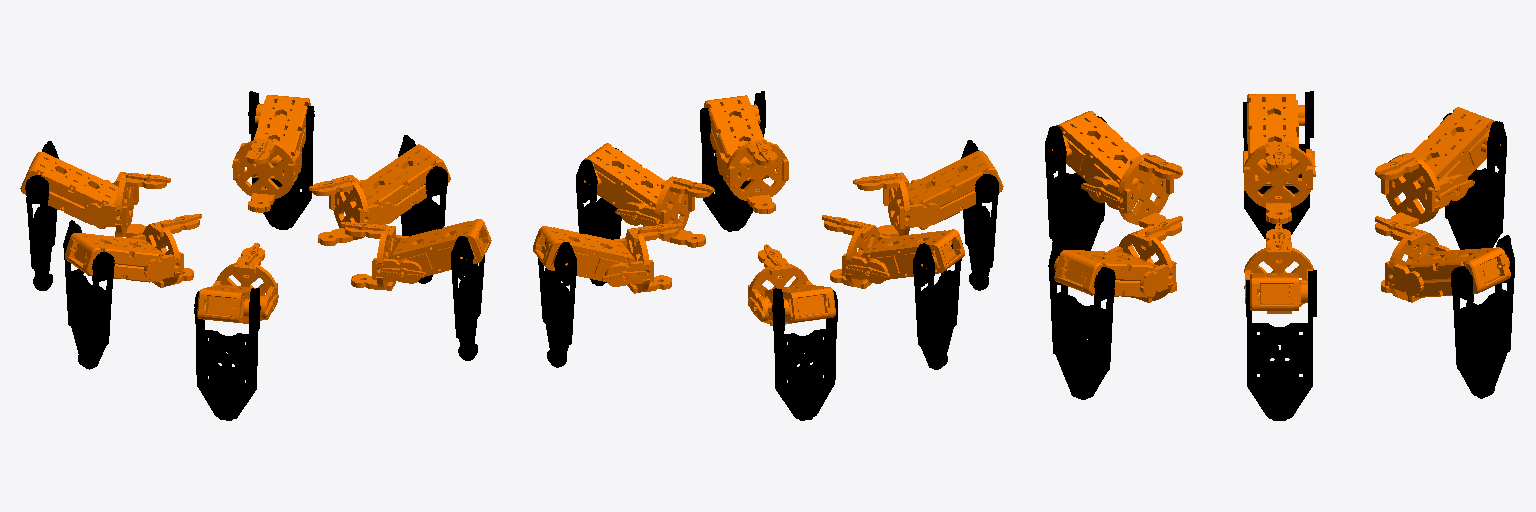
The robot description file, URDF, robot "body_z-up":
<?xml version="1.0" encoding="utf-8"?>
<!-- This URDF was automatically created by SolidWorks to URDF Exporter! Originally created by Stephen Brawner (brawner@gmail.com) 
     Commit Version: 1.6.0-4-g7f85cfe  Build Version: 1.6.7995.38578
     For more information, please see http://wiki.ros.org/sw_urdf_exporter -->
<robot
  name="body_z-up">
  <link
    name="base_link">
    <inertial>
      <origin
        xyz="0.0668 0.081638 0.017827"
        rpy="0 0 0" />
      <mass
        value="0.13141" />
      <inertia
        ixx="0.00011921"
        ixy="2.0298E-09"
        ixz="1.4027E-11"
        iyy="5.3713E-05"
        iyz="-2.2449E-07"
        izz="0.00016762" />
    </inertial>
    <visual>
      <origin
        xyz="0 0 0"
        rpy="0 0 0" />
      <geometry>
        <mesh
          filename="package://robot_description/meshes/base_link.STL" />
      </geometry>
      <material
        name="">
        <color
          rgba="0.25098 0.25098 0.25098 1" />
      </material>
    </visual>
    <collision>
      <origin
        xyz="0 0 0"
        rpy="0 0 0" />
      <geometry>
        <mesh
          filename="package://robot_description/meshes/base_link.STL" />
      </geometry>
    </collision>
  </link>
  <link
    name="cdk">
    <inertial>
      <origin
        xyz="0.010586 0.011321 -0.021091"
        rpy="0 0 0" />
      <mass
        value="0.0096676" />
      <inertia
        ixx="9.984E-07"
        ixy="4.4002E-08"
        ixz="-9.9419E-10"
        iyy="1.0049E-06"
        iyz="-1.0598E-09"
        izz="9.5797E-07" />
    </inertial>
    <visual>
      <origin
        xyz="0 0 0"
        rpy="0 0 0" />
      <geometry>
        <mesh
          filename="package://robot_description/meshes/cdk.STL" />
      </geometry>
      <material
        name="">
        <color
          rgba="1 0.5 0 1" />
      </material>
    </visual>
    <collision>
      <origin
        xyz="0 0 0"
        rpy="0 0 0" />
      <geometry>
        <mesh
          filename="package://robot_description/meshes/cdk.STL" />
      </geometry>
    </collision>
  </link>
  <joint
    name="cdk_joint"
    type="revolute">
    <origin
      xyz="0.10945 0.012591 0.03934"
      rpy="0 0 -1.5658" />
    <parent
      link="base_link" />
    <child
      link="cdk" />
    <axis
      xyz="0 0 1" />
    <limit
      lower="-1.57"
      upper="1.57"
      effort="1"
      velocity="2" />
  </joint>
  <link
    name="fdk">
    <inertial>
      <origin
        xyz="0.019622 -0.00753 0.023344"
        rpy="0 0 0" />
      <mass
        value="0.022781" />
      <inertia
        ixx="1.4347E-06"
        ixy="1.6445E-06"
        ixz="4.338E-13"
        iyy="5.1846E-06"
        iyz="-1.1036E-13"
        izz="5.8654E-06" />
    </inertial>
    <visual>
      <origin
        xyz="0 0 0"
        rpy="0 0 0" />
      <geometry>
        <mesh
          filename="package://robot_description/meshes/fdk.STL" />
      </geometry>
      <material
        name="">
        <color
          rgba="1 0.5 0 1" />
      </material>
    </visual>
    <collision>
      <origin
        xyz="0 0 0"
        rpy="0 0 0" />
      <geometry>
        <mesh
          filename="package://robot_description/meshes/fdk.STL" />
      </geometry>
    </collision>
  </link>
  <joint
    name="fdk_joint"
    type="revolute">
    <origin
      xyz="0.037781 0.0084286 -0.021466"
      rpy="-1.5708 0 0.81491" />
    <parent
      link="cdk" />
    <child
      link="fdk" />
    <axis
      xyz="0 0 -1" />
    <limit
      lower="-1.57"
      upper="1.57"
      effort="1"
      velocity="2" />
  </joint>
  <link
    name="tdk">
    <inertial>
      <origin
        xyz="-7.8386E-05 0.0429 0.0244"
        rpy="0 0 0" />
      <mass
        value="0.010382" />
      <inertia
        ixx="3.5254E-06"
        ixy="-1.007E-09"
        ixz="-2.6698E-11"
        iyy="9.1297E-07"
        iyz="4.9746E-09"
        izz="2.7173E-06" />
    </inertial>
    <visual>
      <origin
        xyz="0 0 0"
        rpy="0 0 0" />
      <geometry>
        <mesh
          filename="package://robot_description/meshes/tdk.STL" />
      </geometry>
      <material
        name="">
        <color
          rgba="0 0 0 1" />
      </material>
    </visual>
    <collision>
      <origin
        xyz="0 0 0"
        rpy="0 0 0" />
      <geometry>
        <mesh
          filename="package://robot_description/meshes/tdk.STL" />
      </geometry>
    </collision>
  </link>
  <joint
    name="tdk_joint"
    type="revolute">
    <origin
      xyz="0.039845 -0.01507 0"
      rpy="0 0 0" />
    <parent
      link="fdk" />
    <child
      link="tdk" />
    <axis
      xyz="0 0 -1" />
    <limit
      lower="-1.57"
      upper="1.57"
      effort="1"
      velocity="2" />
  </joint>
  <link
    name="ctk">
    <inertial>
      <origin
        xyz="6.2555E-05 0.015499 -0.021121"
        rpy="0 0 0" />
      <mass
        value="0.0096676" />
      <inertia
        ixx="9.5756E-07"
        ixy="1.2127E-10"
        ixz="-1.4583E-14"
        iyy="1.0457E-06"
        iyz="7.9151E-11"
        izz="9.58E-07" />
    </inertial>
    <visual>
      <origin
        xyz="0 0 0"
        rpy="0 0 0" />
      <geometry>
        <mesh
          filename="package://robot_description/meshes/ctk.STL" />
      </geometry>
      <material
        name="">
        <color
          rgba="1 0.5 0 1" />
      </material>
    </visual>
    <collision>
      <origin
        xyz="0 0 0"
        rpy="0 0 0" />
      <geometry>
        <mesh
          filename="package://robot_description/meshes/ctk.STL" />
      </geometry>
    </collision>
  </link>
  <joint
    name="ctk_joint"
    type="revolute">
    <origin
      xyz="0.1236 0.081448 0.03934"
      rpy="0 0 -1.5658" />
    <parent
      link="base_link" />
    <child
      link="ctk" />
    <axis
      xyz="0 0 1" />
    <limit
      lower="-1.57"
      upper="1.57"
      effort="1"
      velocity="2" />
  </joint>
  <link
    name="ftk">
    <inertial>
      <origin
        xyz="0.019583 -0.0079205 -0.023247"
        rpy="0 0 0" />
      <mass
        value="0.022781" />
      <inertia
        ixx="1.5387E-06"
        ixy="1.7554E-06"
        ixz="-2.1468E-08"
        iyy="5.0807E-06"
        iyz="8.7104E-09"
        izz="5.8653E-06" />
    </inertial>
    <visual>
      <origin
        xyz="0 0 0"
        rpy="0 0 0" />
      <geometry>
        <mesh
          filename="package://robot_description/meshes/ftk.STL" />
      </geometry>
      <material
        name="">
        <color
          rgba="1 0.5 0 1" />
      </material>
    </visual>
    <collision>
      <origin
        xyz="0 0 0"
        rpy="0 0 0" />
      <geometry>
        <mesh
          filename="package://robot_description/meshes/ftk.STL" />
      </geometry>
    </collision>
  </link>
  <joint
    name="ftk_joint"
    type="revolute">
    <origin
      xyz="-0.021711 0.031943 -0.021572"
      rpy="-1.5708 0 1.5658" />
    <parent
      link="ctk" />
    <child
      link="ftk" />
    <axis
      xyz="-0.0049617 0 0.99999" />
    <limit
      lower="-1.57"
      upper="1.57"
      effort="1"
      velocity="2" />
  </joint>
  <link
    name="ttk">
    <inertial>
      <origin
        xyz="0.00014958 0.043171 -0.024404"
        rpy="0 0 0" />
      <mass
        value="0.010382" />
      <inertia
        ixx="3.5254E-06"
        ixy="-9.6502E-10"
        ixz="3.983E-09"
        iyy="9.1297E-07"
        iyz="-4.8759E-09"
        izz="2.7173E-06" />
    </inertial>
    <visual>
      <origin
        xyz="0 0 0"
        rpy="0 0 0" />
      <geometry>
        <mesh
          filename="package://robot_description/meshes/ttk.STL" />
      </geometry>
      <material
        name="">
        <color
          rgba="0 0 0 1" />
      </material>
    </visual>
    <collision>
      <origin
        xyz="0 0 0"
        rpy="0 0 0" />
      <geometry>
        <mesh
          filename="package://robot_description/meshes/ttk.STL" />
      </geometry>
    </collision>
  </link>
  <joint
    name="ttk_joint"
    type="revolute">
    <origin
      xyz="0.039381 -0.016245 0.00019539"
      rpy="0 0 0" />
    <parent
      link="ftk" />
    <child
      link="ttk" />
    <axis
      xyz="-0.0049617 0 0.99999" />
    <limit
      lower="-1.57"
      upper="1.57"
      effort="1"
      velocity="2" />
  </joint>
  <link
    name="cbk">
    <inertial>
      <origin
        xyz="-0.011402 0.010498 -0.021121"
        rpy="0 0 0" />
      <mass
        value="0.0096676" />
      <inertia
        ixx="1.0061E-06"
        ixy="-4.3875E-08"
        ixz="-5.844E-11"
        iyy="9.9718E-07"
        iyz="5.3354E-11"
        izz="9.58E-07" />
    </inertial>
    <visual>
      <origin
        xyz="0 0 0"
        rpy="0 0 0" />
      <geometry>
        <mesh
          filename="package://robot_description/meshes/cbk.STL" />
      </geometry>
      <material
        name="">
        <color
          rgba="1 0.5 0 1" />
      </material>
    </visual>
    <collision>
      <origin
        xyz="0 0 0"
        rpy="0 0 0" />
      <geometry>
        <mesh
          filename="package://robot_description/meshes/cbk.STL" />
      </geometry>
    </collision>
  </link>
  <joint
    name="cbk_joint"
    type="revolute">
    <origin
      xyz="0.10945 0.1503 0.03934"
      rpy="0 0 -1.5658" />
    <parent
      link="base_link" />
    <child
      link="cbk" />
    <axis
      xyz="0 0 1" />
    <limit
      lower="-1.57"
      upper="1.57"
      effort="1"
      velocity="2" />
  </joint>
  <link
    name="fbk">
    <inertial>
      <origin
        xyz="0.019702 -0.0073173 -0.023344"
        rpy="0 0 0" />
      <mass
        value="0.022781" />
      <inertia
        ixx="1.4024E-06"
        ixy="1.6072E-06"
        ixz="1.7504E-13"
        iyy="5.2169E-06"
        iyz="-1.1949E-13"
        izz="5.8654E-06" />
    </inertial>
    <visual>
      <origin
        xyz="0 0 0"
        rpy="0 0 0" />
      <geometry>
        <mesh
          filename="package://robot_description/meshes/fbk.STL" />
      </geometry>
      <material
        name="">
        <color
          rgba="1 0.5 0 1" />
      </material>
    </visual>
    <collision>
      <origin
        xyz="0 0 0"
        rpy="0 0 0" />
      <geometry>
        <mesh
          filename="package://robot_description/meshes/fbk.STL" />
      </geometry>
    </collision>
  </link>
  <joint
    name="fbk_joint"
    type="revolute">
    <origin
      xyz="-0.038308 0.0055839 -0.021851"
      rpy="-1.5708 0 2.4015" />
    <parent
      link="cbk" />
    <child
      link="fbk" />
    <axis
      xyz="0 0 1" />
    <limit
      lower="-1.57"
      upper="1.57"
      effort="1"
      velocity="2" />
  </joint>
  <link
    name="tbk">
    <inertial>
      <origin
        xyz="-7.7052E-05 0.0429 -0.024405"
        rpy="0 0 0" />
      <mass
        value="0.010382" />
      <inertia
        ixx="3.5254E-06"
        ixy="-9.9081E-10"
        ixz="-2.6697E-11"
        iyy="9.1297E-07"
        iyz="-4.871E-09"
        izz="2.7173E-06" />
    </inertial>
    <visual>
      <origin
        xyz="0 0 0"
        rpy="0 0 0" />
      <geometry>
        <mesh
          filename="package://robot_description/meshes/tbk.STL" />
      </geometry>
      <material
        name="">
        <color
          rgba="0 0 0 1" />
      </material>
    </visual>
    <collision>
      <origin
        xyz="0 0 0"
        rpy="0 0 0" />
      <geometry>
        <mesh
          filename="package://robot_description/meshes/tbk.STL" />
      </geometry>
    </collision>
  </link>
  <joint
    name="tbk_joint"
    type="revolute">
    <origin
      xyz="0.0400060839143754 -0.0146380747215667 0"
      rpy="0 0 0" />
    <parent
      link="fbk" />
    <child
      link="tbk" />
    <axis
      xyz="0 0 1" />
    <limit
      lower="-1.57"
      upper="1.57"
      effort="1"
      velocity="2" />
  </joint>
  <link
    name="cdr">
    <inertial>
      <origin
        xyz="0.011179 -0.010735 -0.021121"
        rpy="0 0 0" />
      <mass
        value="0.0096676" />
      <inertia
        ixx="1.0037E-06"
        ixy="-4.4032E-08"
        ixz="5.7304E-11"
        iyy="9.9958E-07"
        iyz="-5.4566E-11"
        izz="9.58E-07" />
    </inertial>
    <visual>
      <origin
        xyz="0 0 0"
        rpy="0 0 0" />
      <geometry>
        <mesh
          filename="package://robot_description/meshes/cdr.STL" />
      </geometry>
      <material
        name="">
        <color
          rgba="1 0.5 0 1" />
      </material>
    </visual>
    <collision>
      <origin
        xyz="0 0 0"
        rpy="0 0 0" />
      <geometry>
        <mesh
          filename="package://robot_description/meshes/cdr.STL" />
      </geometry>
    </collision>
  </link>
  <joint
    name="cdr_joint"
    type="revolute">
    <origin
      xyz="0.024148 0.012591 0.03934"
      rpy="0 0 -1.5708" />
    <parent
      link="base_link" />
    <child
      link="cdr" />
    <axis
      xyz="0 0 1" />
    <limit
      lower="-1.57"
      upper="1.57"
      effort="1"
      velocity="2" />
  </joint>
  <link
    name="fdr">
    <inertial>
      <origin
        xyz="0.019544 0.0077314 0.023344"
        rpy="0 0 0" />
      <mass
        value="0.022781" />
      <inertia
        ixx="1.4719E-06"
        ixy="-1.6859E-06"
        ixz="2.0453E-14"
        iyy="5.1474E-06"
        iyz="-6.3369E-14"
        izz="5.8654E-06" />
    </inertial>
    <visual>
      <origin
        xyz="0 0 0"
        rpy="0 0 0" />
      <geometry>
        <mesh
          filename="package://robot_description/meshes/fdr.STL" />
      </geometry>
      <material
        name="">
        <color
          rgba="1 0.5 0 1" />
      </material>
    </visual>
    <collision>
      <origin
        xyz="0 0 0"
        rpy="0 0 0" />
      <geometry>
        <mesh
          filename="package://robot_description/meshes/fdr.STL" />
      </geometry>
    </collision>
  </link>
  <joint
    name="fdr_joint"
    type="revolute">
    <origin
      xyz="0.038184 -0.0063887 -0.02185"
      rpy="1.5708 0 -0.76111" />
    <parent
      link="cdr" />
    <child
      link="fdr" />
    <axis
      xyz="0 0 -1" />
    <limit
      lower="-1.57"
      upper="1.57"
      effort="1"
      velocity="2" />
  </joint>
  <link
    name="tdr">
    <inertial>
      <origin
        xyz="-7.9929E-05 -0.042901 0.024405"
        rpy="0 0 0" />
      <mass
        value="0.010382" />
      <inertia
        ixx="3.5254E-06"
        ixy="9.9067E-10"
        ixz="2.669E-11"
        iyy="9.1297E-07"
        iyz="-4.871E-09"
        izz="2.7173E-06" />
    </inertial>
    <visual>
      <origin
        xyz="0 0 0"
        rpy="0 0 0" />
      <geometry>
        <mesh
          filename="package://robot_description/meshes/tdr.STL" />
      </geometry>
      <material
        name="">
        <color
          rgba="0 0 0 1" />
      </material>
    </visual>
    <collision>
      <origin
        xyz="0 0 0"
        rpy="0 0 0" />
      <geometry>
        <mesh
          filename="package://robot_description/meshes/tdr.STL" />
      </geometry>
    </collision>
  </link>
  <joint
    name="tdr_joint"
    type="revolute">
    <origin
      xyz="0.039688 0.015479 0"
      rpy="0 0 0" />
    <parent
      link="fdr" />
    <child
      link="tdr" />
    <axis
      xyz="0 0 -1" />
    <limit
      lower="-1.57"
      upper="1.57"
      effort="1"
      velocity="2" />
  </joint>
  <link
    name="ctr">
    <inertial>
      <origin
        xyz="6.254E-05 -0.015499 -0.021091"
        rpy="0 0 0" />
      <mass
        value="0.0096676" />
      <inertia
        ixx="9.5755E-07"
        ixy="-4.1169E-10"
        ixz="-3.5032E-12"
        iyy="1.0458E-06"
        iyz="1.4531E-09"
        izz="9.5797E-07" />
    </inertial>
    <visual>
      <origin
        xyz="0 0 0"
        rpy="0 0 0" />
      <geometry>
        <mesh
          filename="package://robot_description/meshes/ctr.STL" />
      </geometry>
      <material
        name="">
        <color
          rgba="1 0.5 0 1" />
      </material>
    </visual>
    <collision>
      <origin
        xyz="0 0 0"
        rpy="0 0 0" />
      <geometry>
        <mesh
          filename="package://robot_description/meshes/ctr.STL" />
      </geometry>
    </collision>
  </link>
  <joint
    name="ctr_joint"
    type="revolute">
    <origin
      xyz="0.0100000061122792 0.0814476249955768 0.0393400002384186"
      rpy="0 0 -1.55132271596475" />
    <parent
      link="base_link" />
    <child
      link="ctr" />
    <axis
      xyz="0 0 1" />
    <limit
      lower="-1.57"
      upper="1.57"
      effort="1"
      velocity="2" />
  </joint>
  <link
    name="ftr">
    <inertial>
      <origin
        xyz="0.019453 0.006727 -0.023728"
        rpy="0 0 0" />
      <mass
        value="0.022781" />
      <inertia
        ixx="1.3383E-06"
        ixy="-1.5256E-06"
        ixz="8.8177E-08"
        iyy="5.2828E-06"
        iyz="2.9716E-08"
        izz="5.8637E-06" />
    </inertial>
    <visual>
      <origin
        xyz="0 0 0"
        rpy="0 0 0" />
      <geometry>
        <mesh
          filename="package://robot_description/meshes/ftr.STL" />
      </geometry>
      <material
        name="">
        <color
          rgba="1 0.5 0 1" />
      </material>
    </visual>
    <collision>
      <origin
        xyz="0 0 0"
        rpy="0 0 0" />
      <geometry>
        <mesh
          filename="package://robot_description/meshes/ftr.STL" />
      </geometry>
    </collision>
  </link>
  <joint
    name="ftr_joint"
    type="revolute">
    <origin
      xyz="-0.0217105423481277 -0.0319467536057447 -0.0211842510913956"
      rpy="1.57079630717727 0 -1.59026993762504" />
    <parent
      link="ctr" />
    <child
      link="ftr" />
    <axis
      xyz="0.0194736704471767 0 0.999810370099907" />
    <limit
      lower="-1.57"
      upper="1.57"
      effort="1"
      velocity="2" />
  </joint>
  <link
    name="ttr">
    <inertial>
      <origin
        xyz="-0.00045476 -0.043174 -0.024396"
        rpy="0 0 0" />
      <mass
        value="0.010382" />
      <inertia
        ixx="3.5251E-06"
        ixy="1.1036E-09"
        ixz="-1.5708E-08"
        iyy="9.1297E-07"
        iyz="4.9539E-09"
        izz="2.7176E-06" />
    </inertial>
    <visual>
      <origin
        xyz="0 0 0"
        rpy="0 0 0" />
      <geometry>
        <mesh
          filename="package://robot_description/meshes/ttr.STL" />
      </geometry>
      <material
        name="">
        <color
          rgba="0 0 0 1" />
      </material>
    </visual>
    <collision>
      <origin
        xyz="0 0 0"
        rpy="0 0 0" />
      <geometry>
        <mesh
          filename="package://robot_description/meshes/ttr.STL" />
      </geometry>
    </collision>
  </link>
  <joint
    name="ttr_joint"
    type="revolute">
    <origin
      xyz="0.0402848517303517 0.0138302219579476 -0.000784642195971547"
      rpy="0 0 0" />
    <parent
      link="ftr" />
    <child
      link="ttr" />
    <axis
      xyz="0.0194736704471687 0 0.999810370099907" />
    <limit
      lower="-1.57"
      upper="1.57"
      effort="1"
      velocity="2" />
  </joint>
  <link
    name="cbr">
    <inertial>
      <origin
        xyz="-0.010274 -0.011605 -0.021091"
        rpy="0 0 0" />
      <mass
        value="0.0096676" />
      <inertia
        ixx="9.9564E-07"
        ixy="4.3751E-08"
        ixz="9.6499E-10"
        iyy="1.0077E-06"
        iyz="1.0864E-09"
        izz="9.5797E-07" />
    </inertial>
    <visual>
      <origin
        xyz="0 0 0"
        rpy="0 0 0" />
      <geometry>
        <mesh
          filename="package://robot_description/meshes/cbr.STL" />
      </geometry>
      <material
        name="">
        <color
          rgba="1 0.5 0 1" />
      </material>
    </visual>
    <collision>
      <origin
        xyz="0 0 0"
        rpy="0 0 0" />
      <geometry>
        <mesh
          filename="package://robot_description/meshes/cbr.STL" />
      </geometry>
    </collision>
  </link>
  <joint
    name="cbr_joint"
    type="revolute">
    <origin
      xyz="0.0241479960646266 0.150303899569065 0.0393400002384201"
      rpy="0 0 -1.57079629037889" />
    <parent
      link="base_link" />
    <child
      link="cbr" />
    <axis
      xyz="0 0 1" />
    <limit
      lower="-1.57"
      upper="1.57"
      effort="1"
      velocity="2" />
  </joint>
  <link
    name="fbr">
    <inertial>
      <origin
        xyz="0.019464 0.0079297 -0.023344"
        rpy="0 0 0" />
      <mass
        value="0.022781" />
      <inertia
        ixx="1.5035E-06"
        ixy="-1.7194E-06"
        ixz="-1.8201E-15"
        iyy="5.1158E-06"
        iyz="-1.6263E-13"
        izz="5.8654E-06" />
    </inertial>
    <visual>
      <origin
        xyz="0 0 0"
        rpy="0 0 0" />
      <geometry>
        <mesh
          filename="package://robot_description/meshes/fbr.STL" />
      </geometry>
      <material
        name="">
        <color
          rgba="1 0.5 0 1" />
      </material>
    </visual>
    <collision>
      <origin
        xyz="0 0 0"
        rpy="0 0 0" />
      <geometry>
        <mesh
          filename="package://robot_description/meshes/fbr.STL" />
      </geometry>
    </collision>
  </link>
  <joint
    name="fbr_joint"
    type="revolute">
    <origin
      xyz="-0.03754 -0.0094556 -0.021465"
      rpy="1.5708 0 -2.2995" />
    <parent
      link="cbr" />
    <child
      link="fbr" />
    <axis
      xyz="0 0 1" />
    <limit
      lower="-1.57"
      upper="1.57"
      effort="1"
      velocity="2" />
  </joint>
  <link
    name="tbr">
    <inertial>
      <origin
        xyz="-8.1163E-05 -0.042901 -0.0244"
        rpy="0 0 0" />
      <mass
        value="0.010382" />
      <inertia
        ixx="3.5254E-06"
        ixy="1.0069E-09"
        ixz="2.6696E-11"
        iyy="9.1297E-07"
        iyz="4.9746E-09"
        izz="2.7173E-06" />
    </inertial>
    <visual>
      <origin
        xyz="0 0 0"
        rpy="0 0 0" />
      <geometry>
        <mesh
          filename="package://robot_description/meshes/tbr.STL" />
      </geometry>
      <material
        name="">
        <color
          rgba="0 0 0 1" />
      </material>
    </visual>
    <collision>
      <origin
        xyz="0 0 0"
        rpy="0 0 0" />
      <geometry>
        <mesh
          filename="package://robot_description/meshes/tbr.STL" />
      </geometry>
    </collision>
  </link>
  <joint
    name="tbr_joint"
    type="revolute">
    <origin
      xyz="0.039529 0.015882 0"
      rpy="0 0 0" />
    <parent
      link="fbr" />
    <child
      link="tbr" />
    <axis
      xyz="0 0 1" />
    <limit
      lower="-1.57"
      upper="1.57"
      effort="1"
      velocity="2" />
  </joint>
</robot>

--- Render facts (derived) ---
3 views of the same robot in one strip: view 1: azimuth 30°, elevation 25°; view 2: azimuth 150°, elevation 25°; view 3: azimuth 270°, elevation 25° (orthographic).
Robot: body_z-up — 19 links, 18 joints (18 revolute); root link base_link; default pose: every joint at zero.
Links seen in each view (by area): view 1: tdr, ttr, cbk, fdk, fbr, ftk, ftr, tdk, ctk, tbr, tbk, fbk (+6 smaller); view 2: tbr, ttr, cdk, ftk, tbk, fbk, fdr, ftr, tdr, tdk, ctk, fdk (+6 smaller); view 3: tdk, ttk, tbk, tbr, tdr, ctr, fdr, fbr, cbr, cdr, fbk, fdk (+6 smaller).
Boxes of the visible links, x1,y1,x2,y2 form: tdr: (194, 288, 260, 420); ttr: (63, 220, 114, 369); cbk: (233, 138, 301, 212); fdk: (380, 219, 491, 281); fbr: (20, 152, 117, 228); ftk: (355, 144, 450, 224); ftr: (65, 233, 165, 282); tdk: (451, 236, 484, 360); ctk: (309, 175, 396, 245); tbr: (25, 141, 58, 290); tbk: (248, 91, 314, 229); fbk: (232, 95, 310, 179); tbr: (772, 288, 837, 420); ttr: (913, 243, 962, 369); cdk: (717, 139, 788, 213); ftk: (584, 143, 667, 223); tbk: (538, 242, 576, 367); fbk: (533, 226, 646, 285); fdr: (906, 150, 1003, 229); ftr: (848, 229, 964, 279); tdr: (961, 140, 998, 290); tdk: (700, 91, 765, 231); ctk: (621, 176, 714, 247); fdk: (704, 95, 768, 180); tdk: (1048, 238, 1115, 399); ttk: (1246, 270, 1316, 420); tbk: (1451, 235, 1514, 398); tbr: (1443, 113, 1506, 249); tdr: (1045, 116, 1106, 250); ctr: (1243, 142, 1312, 223); fdr: (1052, 111, 1152, 202); fbr: (1403, 107, 1500, 200); cbr: (1375, 153, 1468, 226); cdr: (1087, 153, 1182, 227); fbk: (1404, 247, 1510, 297); fdk: (1054, 250, 1157, 297).
Size in the robot's own frame: 0.2814 by 0.2817 by 0.1012 metres.
18 mesh visuals loaded from 19 distinct referenced files (18 binary STL); not drawn: 1 (reference not matched to a file when rendering).
